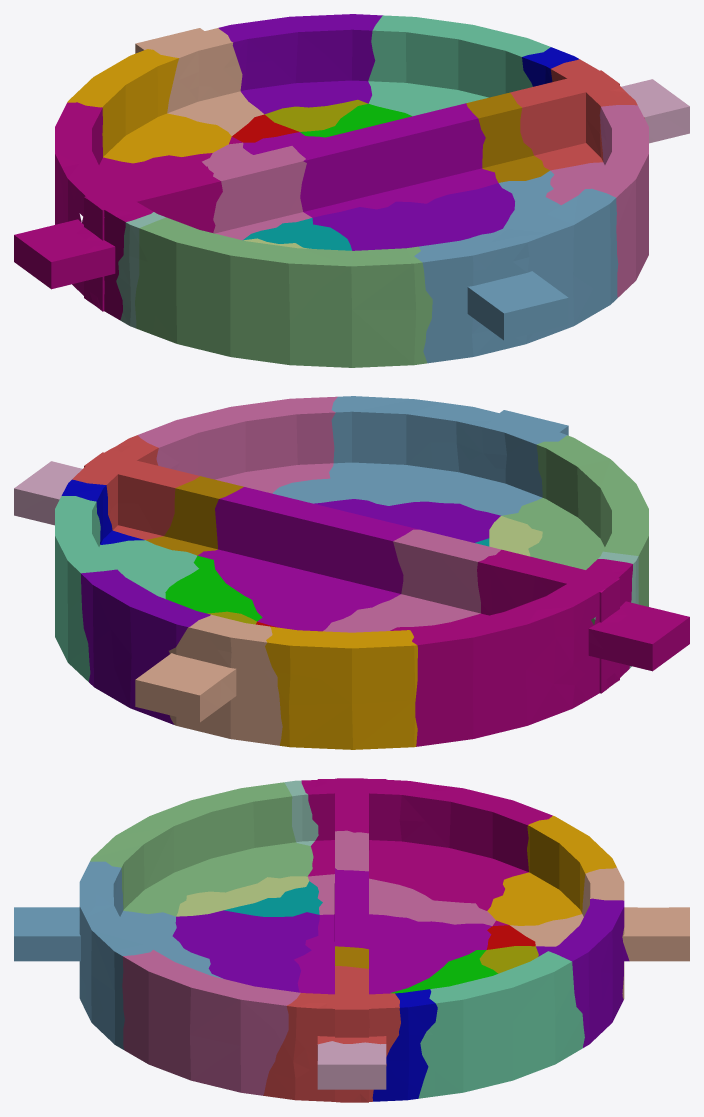
The model's file is fractured_66_23pcs.glb.
3 renders of one model, top to bottom at view 1: azimuth 30°, elevation 25°; view 2: azimuth 150°, elevation 25°; view 3: azimuth 270°, elevation 25°, orthographic. The views are drawn at different scales.
Parts seen in each view (by area): view 1: piece_11.obj, piece_10.obj, piece_6.obj, piece_2.obj, piece_9.obj, piece_5.obj, piece_0.obj, piece_8.obj, piece_1.obj, piece_3.obj, piece_7.obj, piece_15.obj (+8 smaller); view 2: piece_6.obj, piece_10.obj, piece_2.obj, piece_0.obj, piece_15.obj, piece_8.obj, piece_11.obj, piece_5.obj, piece_9.obj, piece_7.obj, piece_1.obj, piece_3.obj (+6 smaller); view 3: piece_6.obj, piece_11.obj, piece_8.obj, piece_9.obj, piece_10.obj, piece_2.obj, piece_1.obj, piece_3.obj, piece_0.obj, piece_5.obj, piece_15.obj, piece_7.obj (+9 smaller).
Part boxes in pixels (x1,y1,x2,y2): piece_11.obj: (135,217,432,367); piece_10.obj: (414,170,618,363); piece_6.obj: (14,102,222,320); piece_2.obj: (243,103,498,217); piece_9.obj: (368,15,550,116); piece_5.obj: (218,14,382,114); piece_0.obj: (67,49,231,163); piece_8.obj: (545,105,648,297); piece_1.obj: (510,59,644,170); piece_3.obj: (312,183,514,250); piece_7.obj: (202,142,311,240); piece_15.obj: (135,28,264,135); piece_6.obj: (390,549,689,746); piece_10.obj: (272,396,568,515); piece_2.obj: (198,487,418,631); piece_0.obj: (265,626,417,749); piece_15.obj: (135,614,282,745); piece_8.obj: (138,396,337,493); piece_11.obj: (501,435,648,624); piece_5.obj: (80,569,210,724); piece_9.obj: (55,496,198,681); piece_7.obj: (323,529,500,632); piece_1.obj: (72,435,199,539); piece_3.obj: (314,499,500,542); piece_6.obj: (301,778,552,910); piece_11.obj: (90,782,313,916); piece_8.obj: (122,949,300,1095); piece_9.obj: (418,951,584,1098); piece_10.obj: (14,861,222,1049); piece_2.obj: (294,868,491,994); piece_1.obj: (263,966,400,1102); piece_3.obj: (172,910,319,992); piece_0.obj: (487,815,616,925); piece_5.obj: (536,898,629,1047); piece_15.obj: (510,867,689,999); piece_7.obj: (308,830,495,925).
Bounding box in the file's own units: 1 × 0.1519 × 1.
